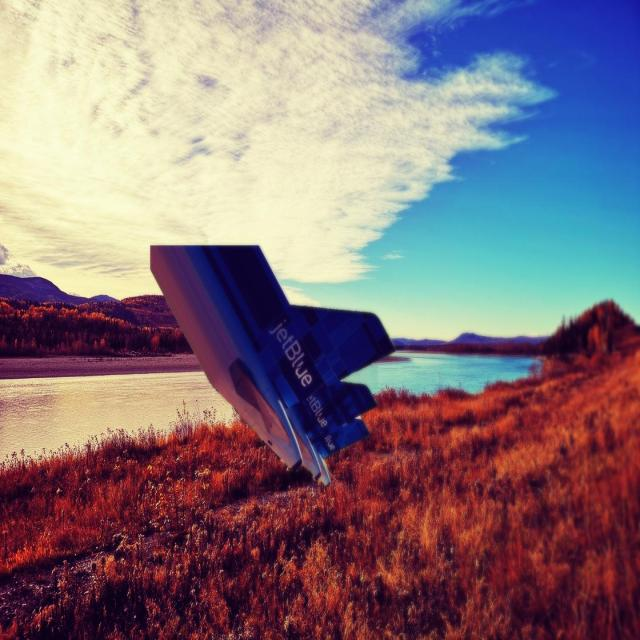airplane: (149, 243, 396, 487)
